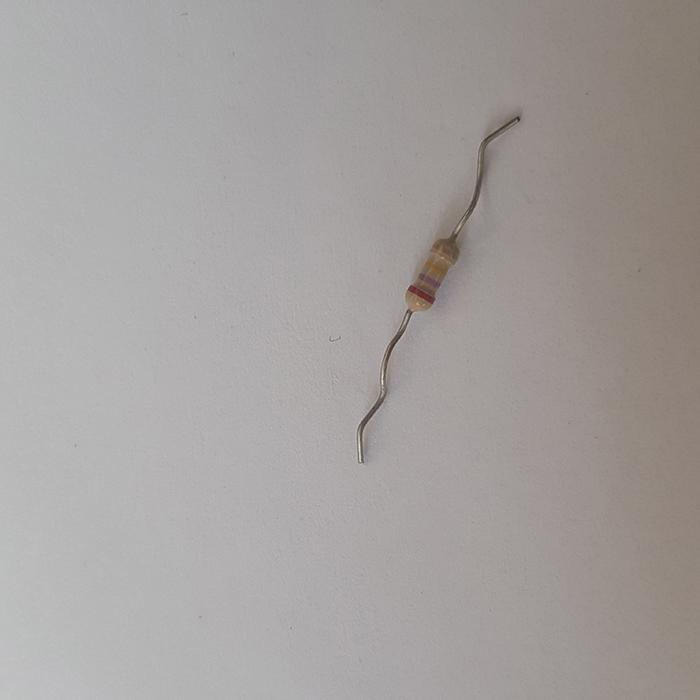resistor: (407, 236, 459, 312)
